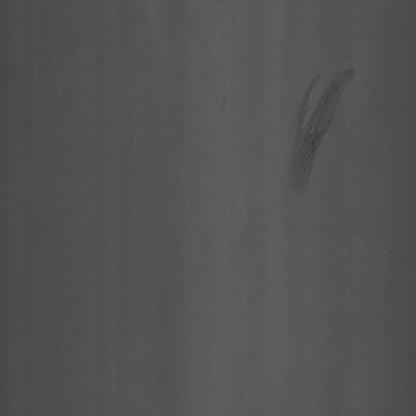water_spot: (286, 61, 360, 198)
